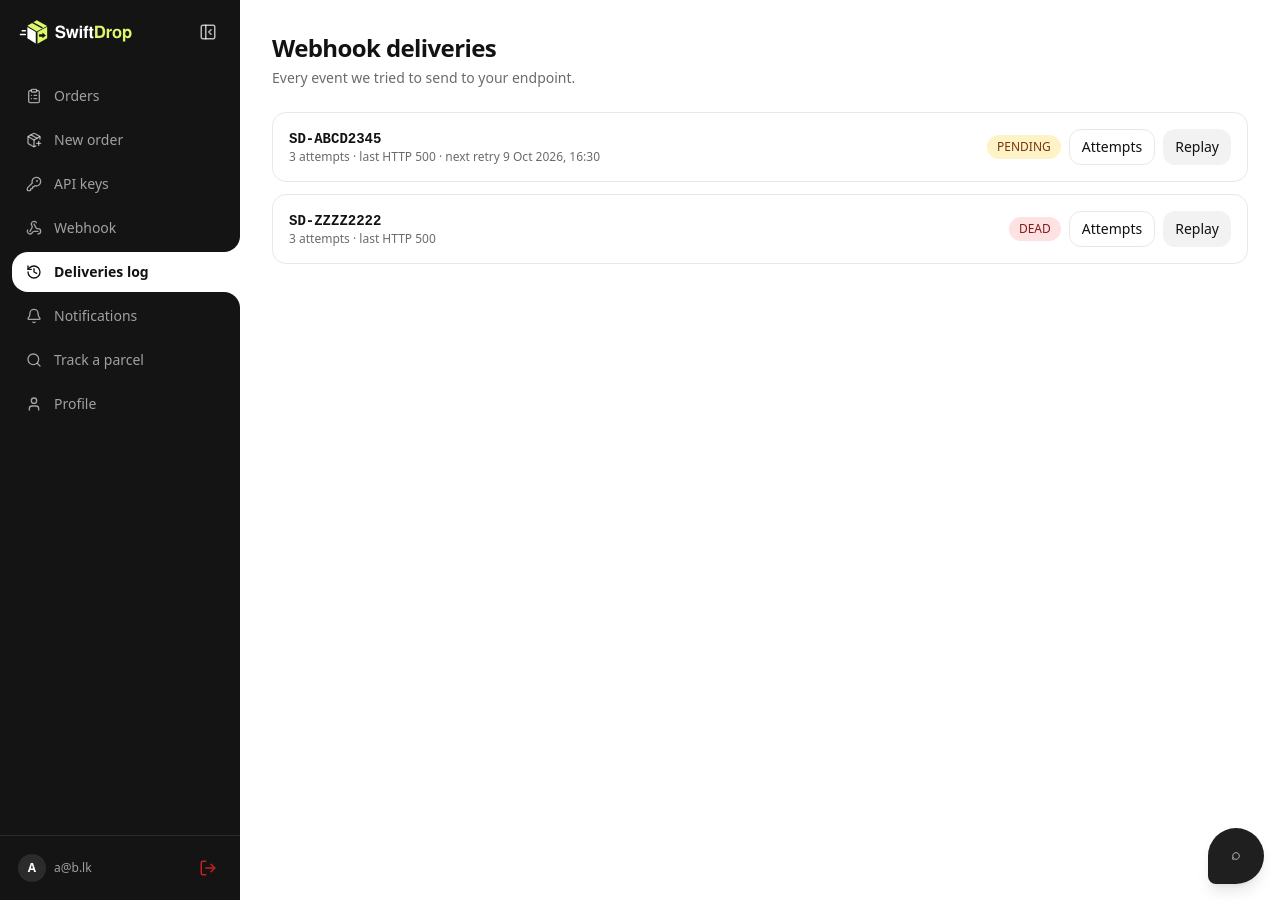
it: webhook deliveries › shows state, attempts and expandable history
The image size is (1280, 900).
Expected: the text "SD-ABCD2345" is shown, left=289, top=131, right=381, bottom=147
Expected: the text "DEAD" is shown, left=1009, top=217, right=1061, bottom=241
What coordinates should you click on to do the following:
click the button with aria-label "Show attempts for SD-ABCD2345"
I would click on:
 (1112, 147)
Its box is left=1069, top=129, right=1155, bottom=165.
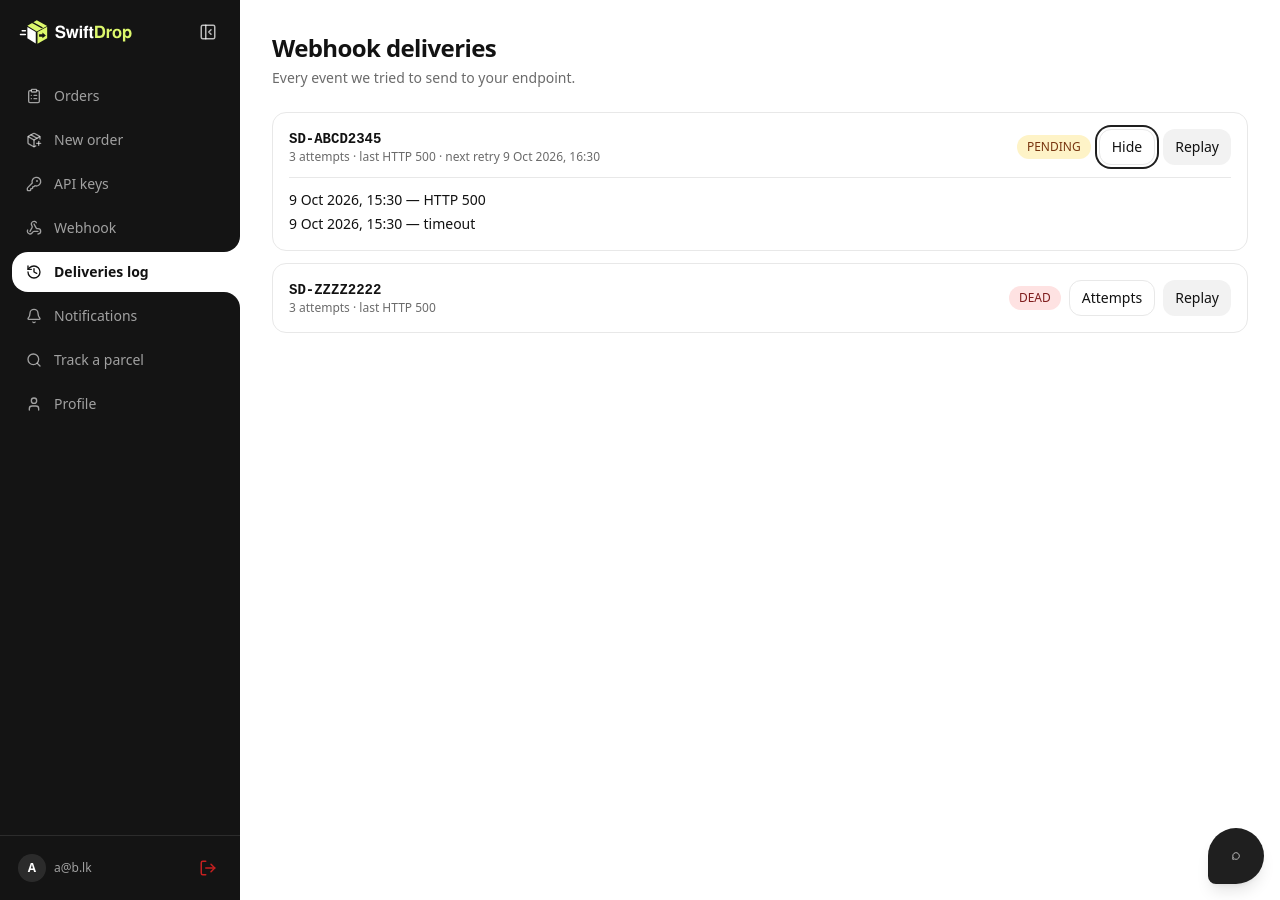
Expected: the list named "Attempts" shows "HTTP 500", left=424, top=190, right=486, bottom=209
Expected: the list named "Attempts" shows "timeout", left=424, top=214, right=475, bottom=233
